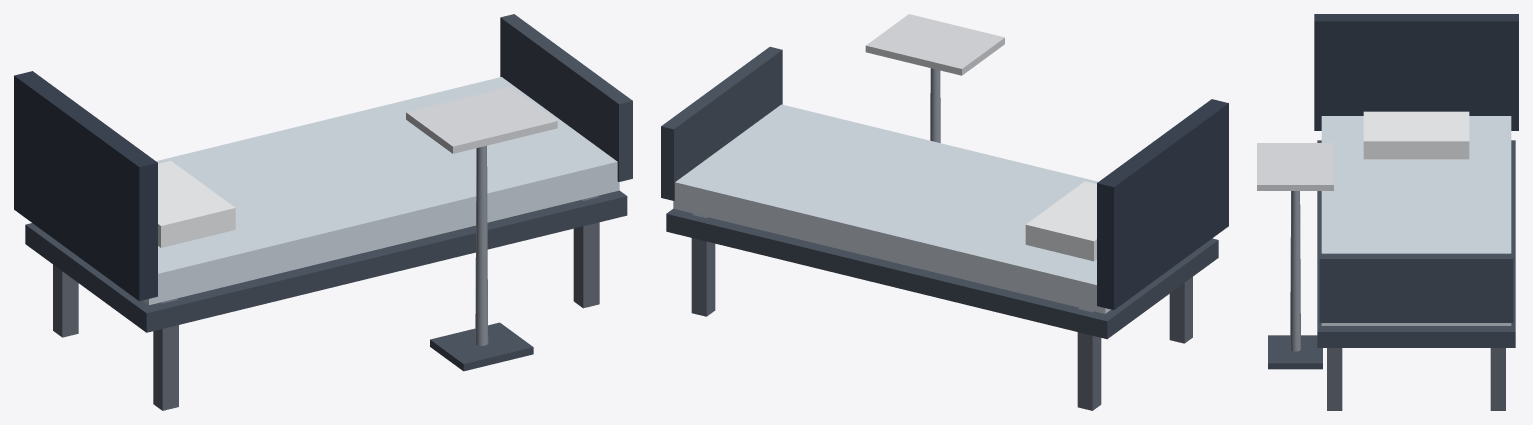
The model's file is parametric-source.glb.
3 renders of one model, left to right at view 1: azimuth 30°, elevation 25°; view 2: azimuth 150°, elevation 25°; view 3: azimuth 270°, elevation 25°, orthographic. The views are drawn at different scales.
Parts seen in each view (by area): view 1: openclinxr.equipment.post_op_bed_equipment.mattress_deck, openclinxr.equipment.post_op_bed_equipment.headboard, openclinxr.equipment.post_op_bed_equipment.frame, openclinxr.equipment.post_op_bed_equipment.footboard, openclinxr.equipment.post_op_bed_equipment.overbed_table, openclinxr.equipment.post_op_bed_equipment.pillow, openclinxr.equipment.post_op_bed_equipment.overbed_base, openclinxr.equipment.post_op_bed_equipment.overbed_leg, openclinxr.equipment.post_op_bed_equipment.leg_3, openclinxr.equipment.post_op_bed_equipment.leg_2, openclinxr.equipment.post_op_bed_equipment.leg_0; view 2: openclinxr.equipment.post_op_bed_equipment.mattress_deck, openclinxr.equipment.post_op_bed_equipment.headboard, openclinxr.equipment.post_op_bed_equipment.frame, openclinxr.equipment.post_op_bed_equipment.footboard, openclinxr.equipment.post_op_bed_equipment.overbed_table, openclinxr.equipment.post_op_bed_equipment.pillow, openclinxr.equipment.post_op_bed_equipment.leg_1, openclinxr.equipment.post_op_bed_equipment.leg_0, openclinxr.equipment.post_op_bed_equipment.leg_2, openclinxr.equipment.post_op_bed_equipment.overbed_leg; view 3: openclinxr.equipment.post_op_bed_equipment.mattress_deck, openclinxr.equipment.post_op_bed_equipment.headboard, openclinxr.equipment.post_op_bed_equipment.footboard, openclinxr.equipment.post_op_bed_equipment.frame, openclinxr.equipment.post_op_bed_equipment.pillow, openclinxr.equipment.post_op_bed_equipment.overbed_table, openclinxr.equipment.post_op_bed_equipment.overbed_leg, openclinxr.equipment.post_op_bed_equipment.overbed_base, openclinxr.equipment.post_op_bed_equipment.leg_1, openclinxr.equipment.post_op_bed_equipment.leg_3.
Part boxes in pixels (x1=…): openclinxr.equipment.post_op_bed_equipment.mattress_deck: x1=142, y1=77, x2=619, y2=305; openclinxr.equipment.post_op_bed_equipment.headboard: x1=14, y1=71, x2=157, y2=301; openclinxr.equipment.post_op_bed_equipment.frame: x1=25, y1=190, x2=627, y2=332; openclinxr.equipment.post_op_bed_equipment.footboard: x1=500, y1=14, x2=632, y2=181; openclinxr.equipment.post_op_bed_equipment.overbed_table: x1=406, y1=86, x2=557, y2=153; openclinxr.equipment.post_op_bed_equipment.pillow: x1=158, y1=160, x2=235, y2=247; openclinxr.equipment.post_op_bed_equipment.overbed_base: x1=430, y1=322, x2=533, y2=371; openclinxr.equipment.post_op_bed_equipment.overbed_leg: x1=475, y1=145, x2=488, y2=345; openclinxr.equipment.post_op_bed_equipment.leg_3: x1=573, y1=196, x2=599, y2=308; openclinxr.equipment.post_op_bed_equipment.leg_2: x1=153, y1=298, x2=178, y2=410; openclinxr.equipment.post_op_bed_equipment.leg_0: x1=53, y1=264, x2=78, y2=337; openclinxr.equipment.post_op_bed_equipment.mattress_deck: x1=673, y1=104, x2=1110, y2=313; openclinxr.equipment.post_op_bed_equipment.headboard: x1=1097, y1=99, x2=1228, y2=309; openclinxr.equipment.post_op_bed_equipment.frame: x1=666, y1=208, x2=1218, y2=339; openclinxr.equipment.post_op_bed_equipment.footboard: x1=661, y1=47, x2=782, y2=200; openclinxr.equipment.post_op_bed_equipment.overbed_table: x1=865, y1=14, x2=1004, y2=75; openclinxr.equipment.post_op_bed_equipment.pillow: x1=1025, y1=181, x2=1096, y2=261; openclinxr.equipment.post_op_bed_equipment.leg_1: x1=691, y1=213, x2=715, y2=316; openclinxr.equipment.post_op_bed_equipment.leg_0: x1=1077, y1=308, x2=1101, y2=410; openclinxr.equipment.post_op_bed_equipment.leg_2: x1=1169, y1=277, x2=1192, y2=343; openclinxr.equipment.post_op_bed_equipment.overbed_leg: x1=930, y1=68, x2=940, y2=142; openclinxr.equipment.post_op_bed_equipment.mattress_deck: x1=1321, y1=116, x2=1511, y2=325; openclinxr.equipment.post_op_bed_equipment.headboard: x1=1314, y1=14, x2=1518, y2=130; openclinxr.equipment.post_op_bed_equipment.footboard: x1=1319, y1=253, x2=1513, y2=322; openclinxr.equipment.post_op_bed_equipment.frame: x1=1317, y1=140, x2=1515, y2=347; openclinxr.equipment.post_op_bed_equipment.pillow: x1=1363, y1=111, x2=1469, y2=159; openclinxr.equipment.post_op_bed_equipment.overbed_table: x1=1257, y1=143, x2=1333, y2=190; openclinxr.equipment.post_op_bed_equipment.overbed_leg: x1=1290, y1=191, x2=1300, y2=351; openclinxr.equipment.post_op_bed_equipment.overbed_base: x1=1268, y1=335, x2=1322, y2=369; openclinxr.equipment.post_op_bed_equipment.leg_1: x1=1490, y1=348, x2=1505, y2=410; openclinxr.equipment.post_op_bed_equipment.leg_3: x1=1327, y1=348, x2=1342, y2=410.
Bounding box in the file's own units: 2.13 × 1.06 × 1.19.
